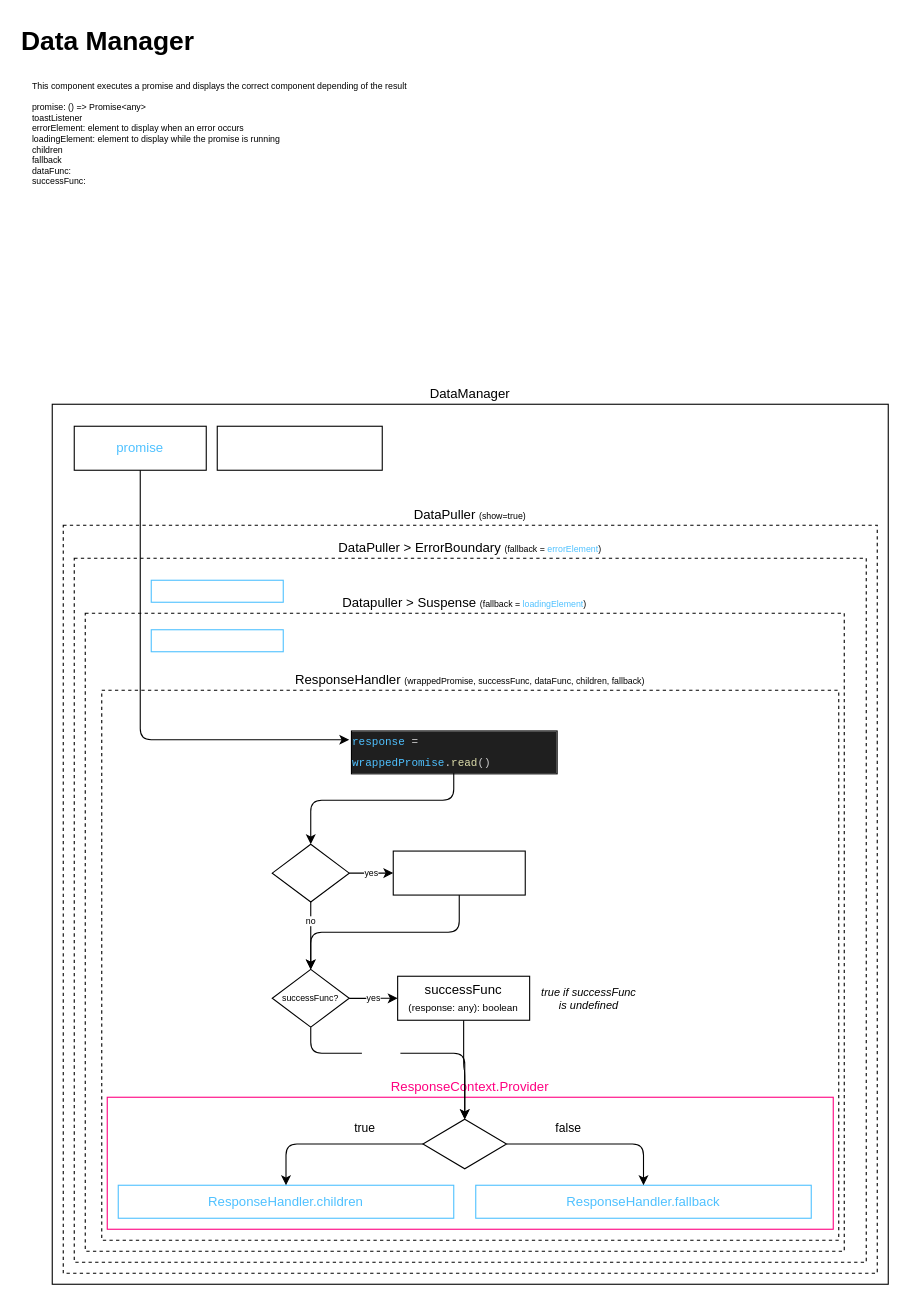
The diagram is 917 pixels wide and 1304 high, and some of its shapes have lost their labels. Here are the shapes that lost their labels. From the top down, the centre of each, then its label:
At (x=299, y=447): "toastListener success, error".
At (x=216, y=590): "errorElement".
At (x=216, y=640): "loadingElement".
At (x=310, y=872): "dataFunc ?".
At (x=458, y=872): "dataFunc (response: any): any".
At (x=464, y=1143): "success ?".
